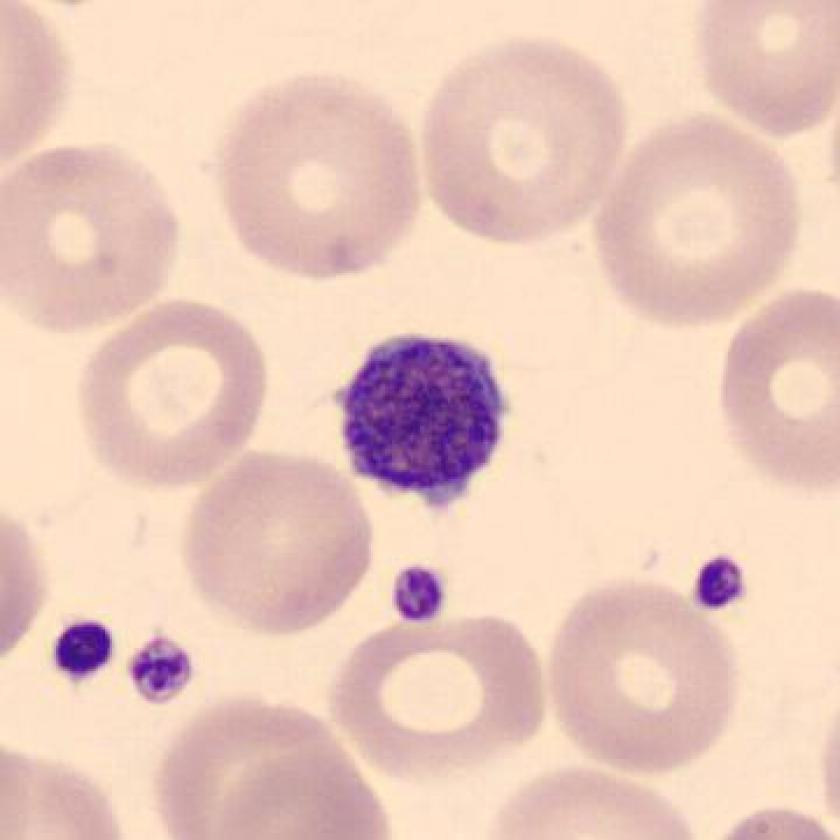platelets: (335, 332, 519, 510), (680, 542, 757, 626), (127, 628, 204, 712), (48, 612, 118, 684), (386, 556, 449, 626)
